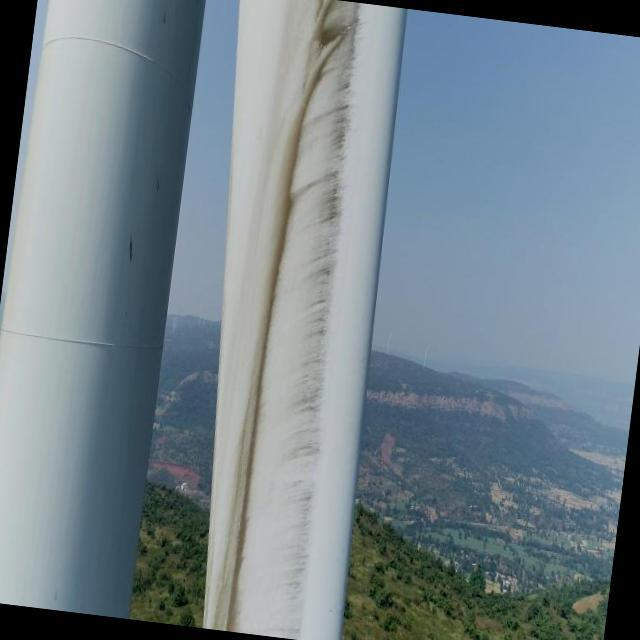Dirt: (199, 0, 366, 639)
